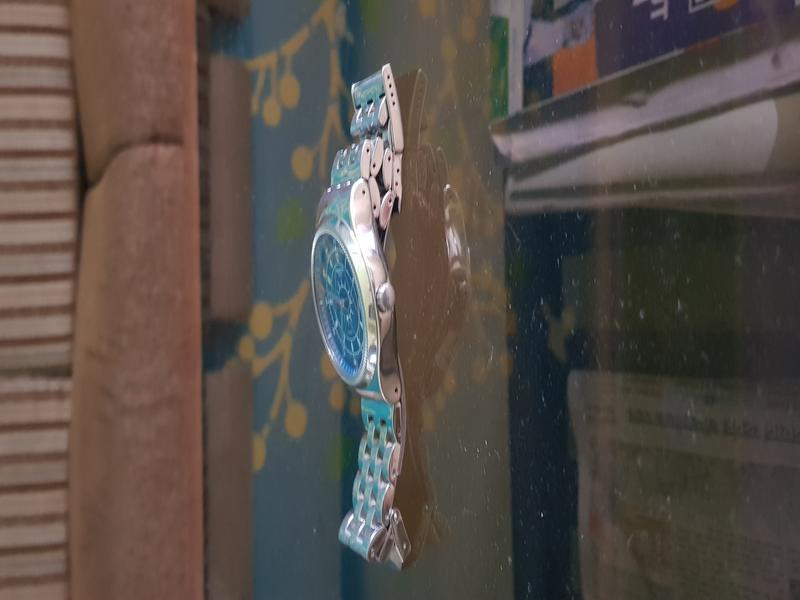watch: (285, 64, 473, 574)
